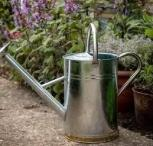ARROSOIR: (4, 19, 143, 146)
